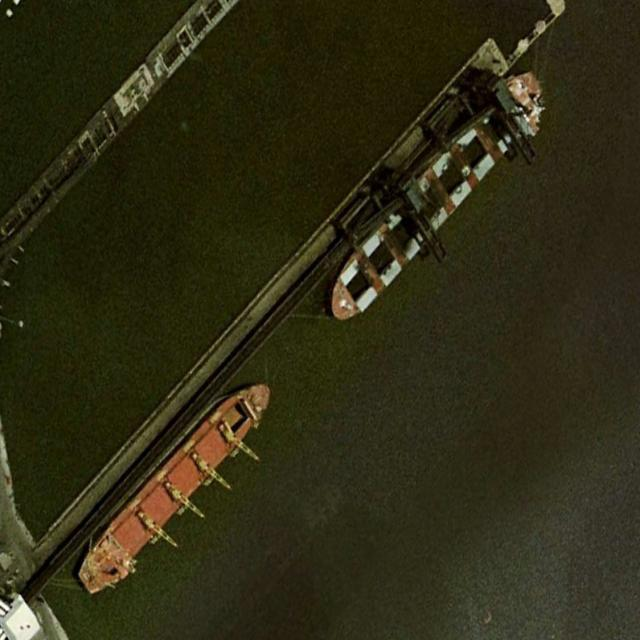Cargo: (318, 54, 559, 345), (69, 360, 281, 610)
